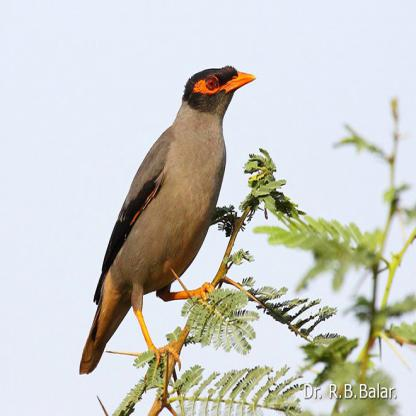Burung: (77, 63, 256, 377)
